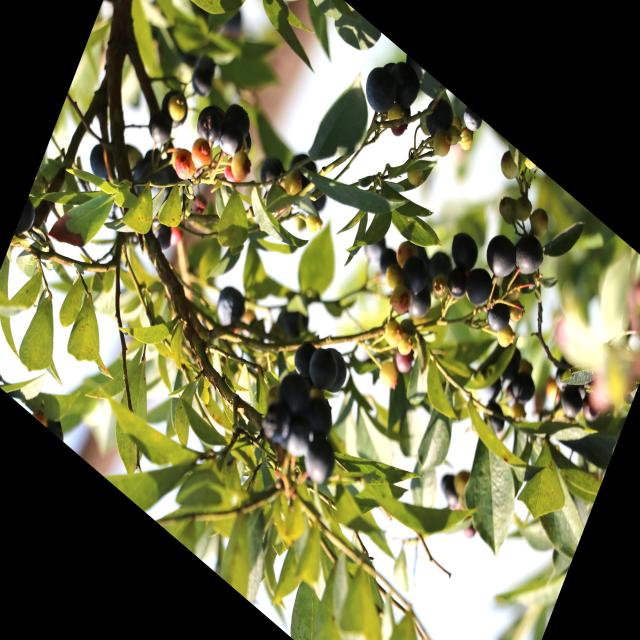blueberry: (295, 426, 345, 499), (476, 218, 526, 291), (357, 55, 406, 128), (504, 216, 551, 288), (271, 357, 319, 425), (301, 333, 347, 402), (251, 390, 298, 456), (393, 242, 439, 309), (78, 131, 124, 197), (382, 51, 426, 118), (190, 90, 234, 156), (418, 88, 460, 155), (283, 326, 326, 391), (317, 338, 358, 406), (442, 218, 487, 278), (303, 385, 344, 450), (274, 410, 316, 472), (458, 255, 499, 318), (474, 388, 517, 448), (478, 286, 518, 348), (214, 106, 254, 167), (504, 358, 544, 418), (554, 374, 592, 432), (12, 193, 46, 254), (428, 244, 463, 303), (572, 382, 610, 436), (401, 277, 438, 331), (439, 256, 475, 311), (451, 99, 488, 145)
blueberry-halfripe: (188, 132, 217, 174), (170, 144, 198, 186), (388, 281, 414, 320), (390, 342, 416, 380)
blueberry-unripe: (163, 89, 190, 129), (227, 146, 253, 185), (376, 355, 401, 393), (280, 167, 304, 203), (381, 316, 403, 350), (395, 329, 415, 358), (304, 209, 324, 238)
